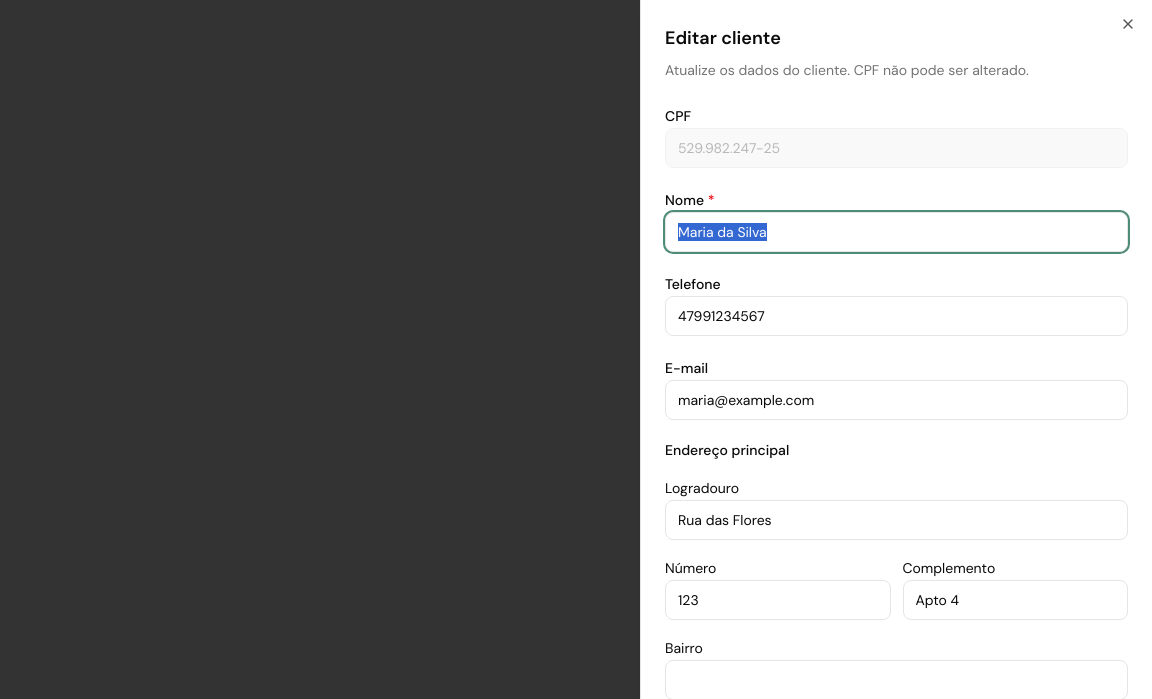
Test: EditClientDrawer › should show client-side validation error for invalid email format
The width and height of the screenshot is (1152, 699).
Replace the text in the field labelled "E-mail" with "not-an-email" at (896, 400), box [665,380,1128,420]
(page scrolled)
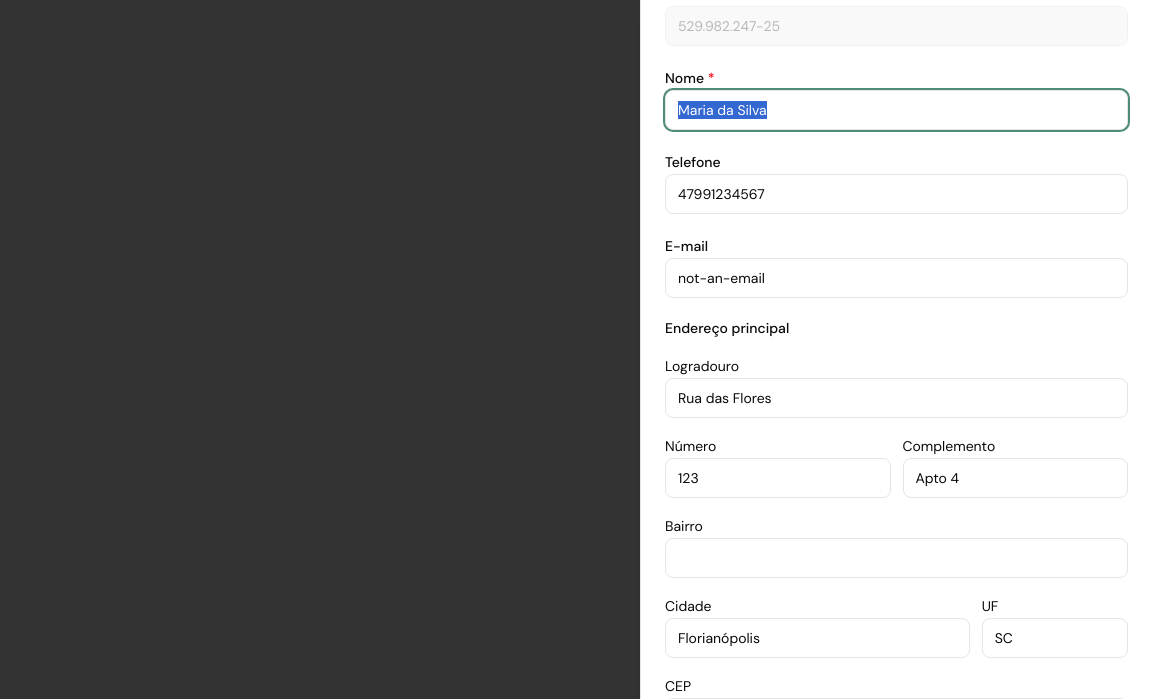
Submit the form with id "edit-client-form"
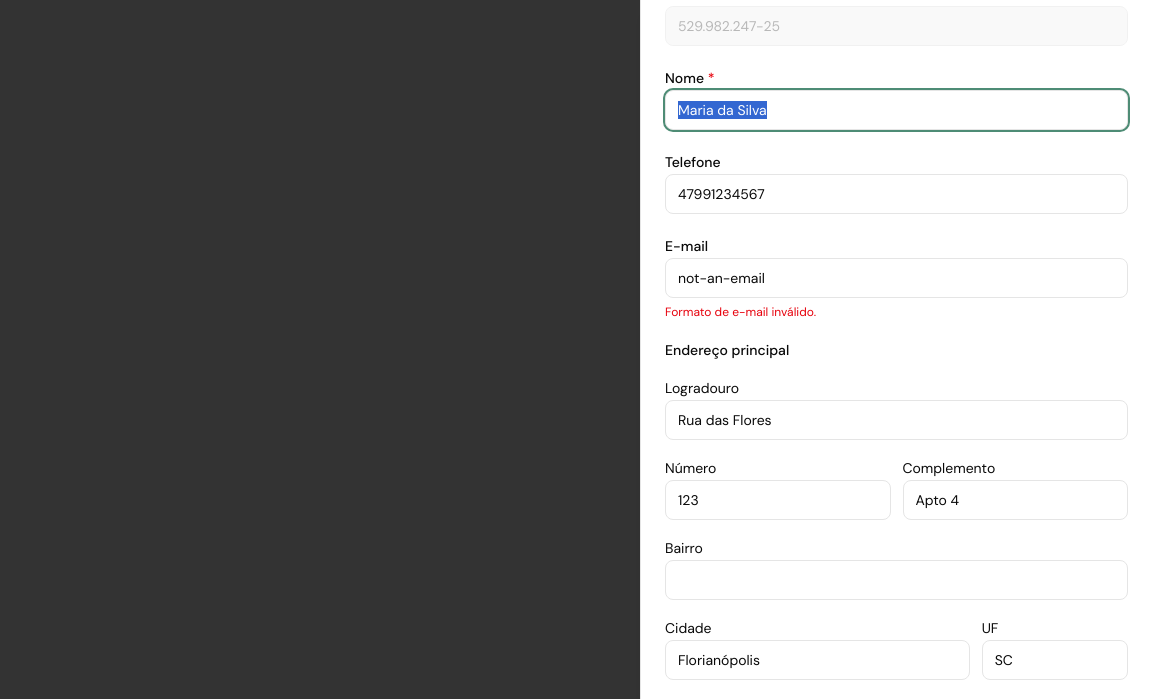
Check: the text "Formato de e-mail inválido." is shown, box [665,304,816,320]
